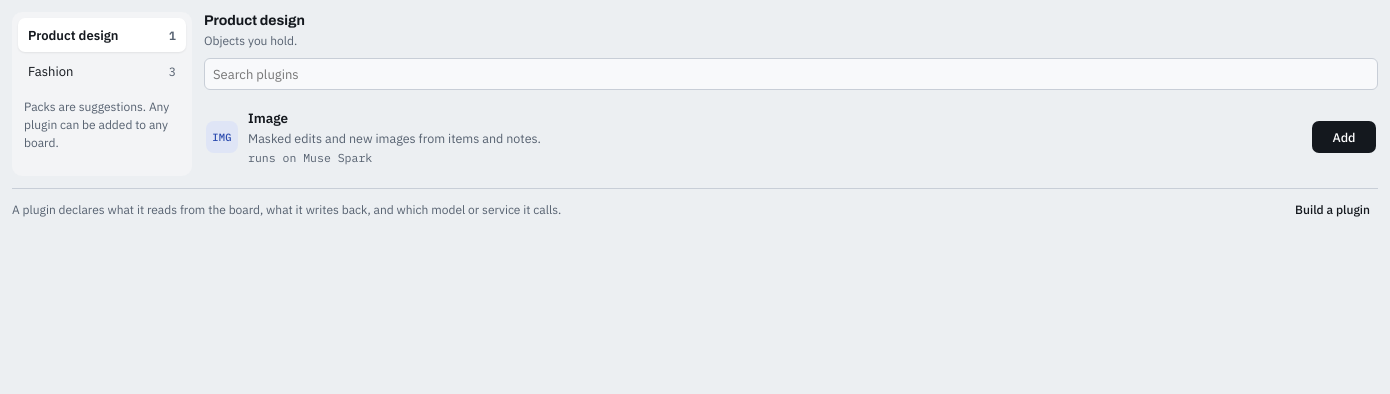
Test: PluginsPanel › search narrows the rows
Click the button "Fashion 3" at (102, 71), box [18, 54, 186, 88]
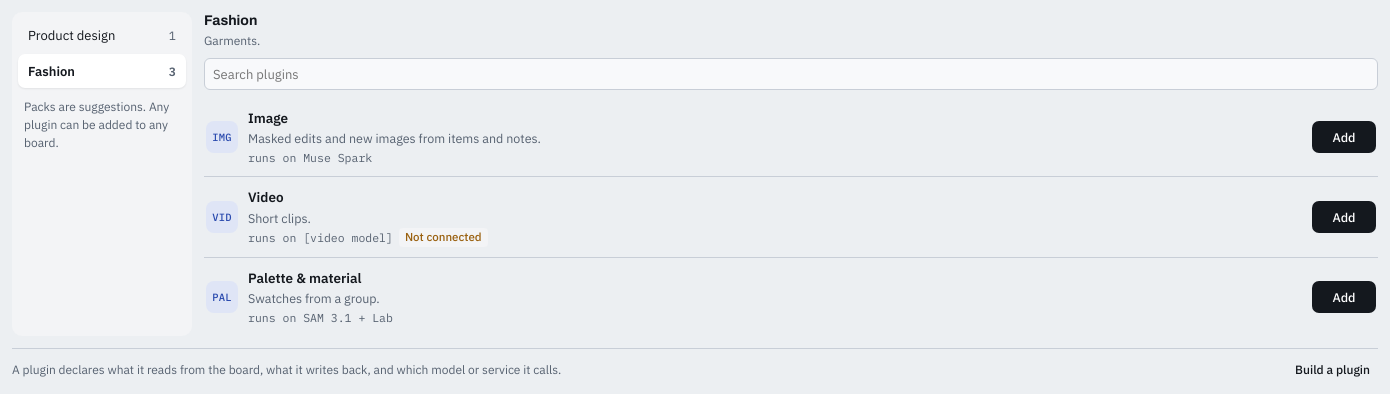
Type "swatch" into the search field labelled "Search plugins" at (791, 74), box [204, 58, 1378, 90]
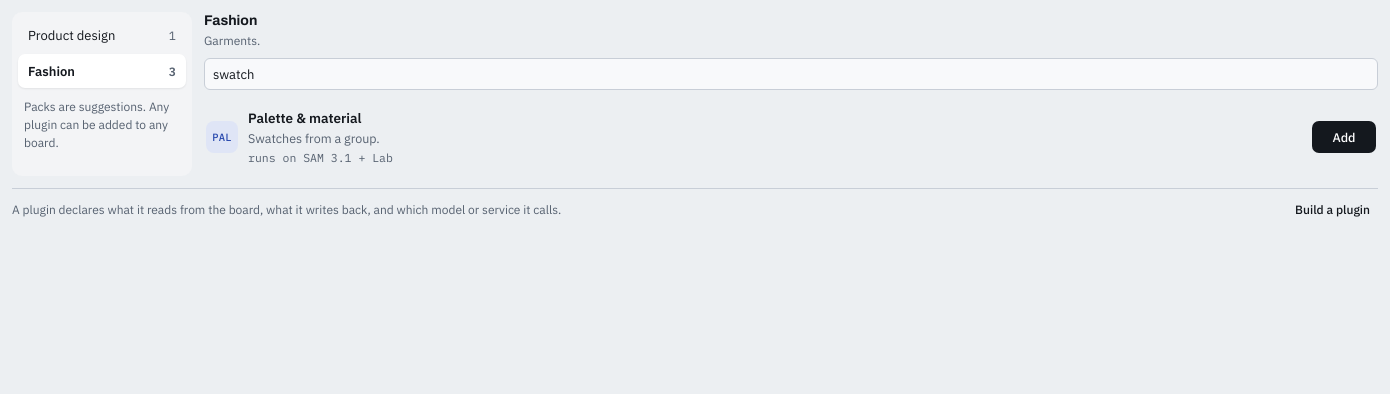
Check: the list item shows "Palette", box [248, 109, 362, 127]
Check: the number of list items is 1, box [204, 98, 1378, 176]
